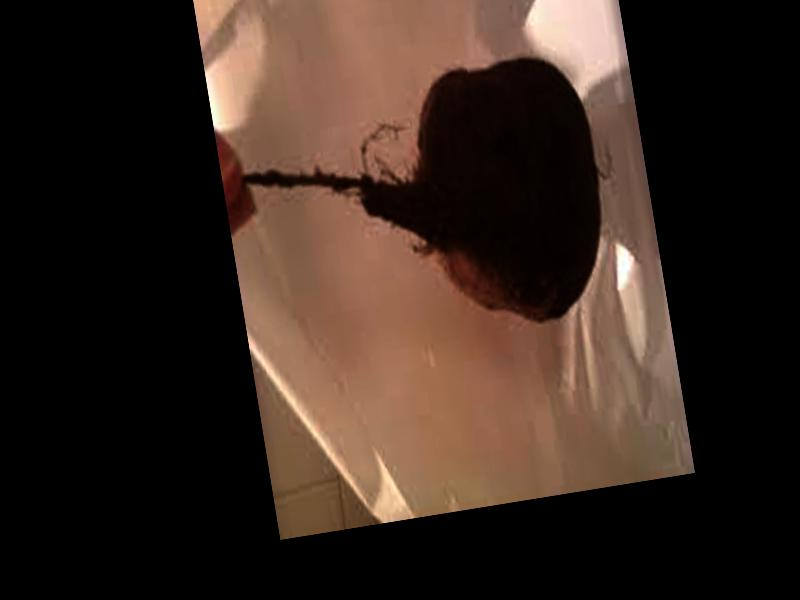Beet: (227, 50, 619, 367)
